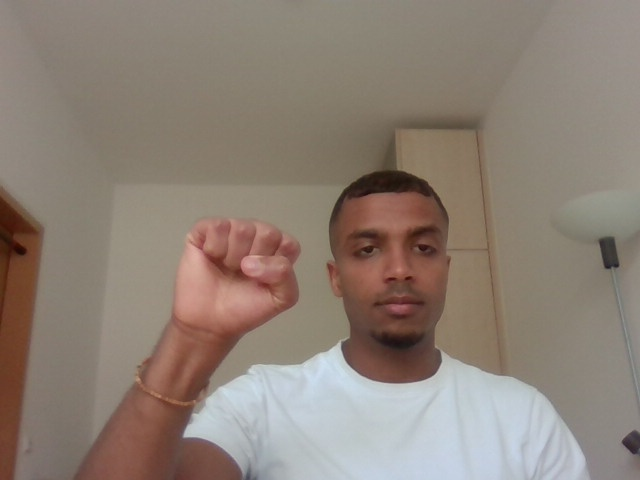maybe: (152, 206, 318, 343)
